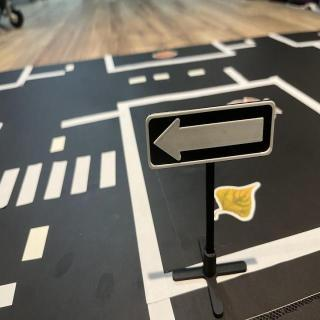road_crosswalk: (1, 146, 119, 212)
sign_oneway_left: (147, 99, 277, 172)
